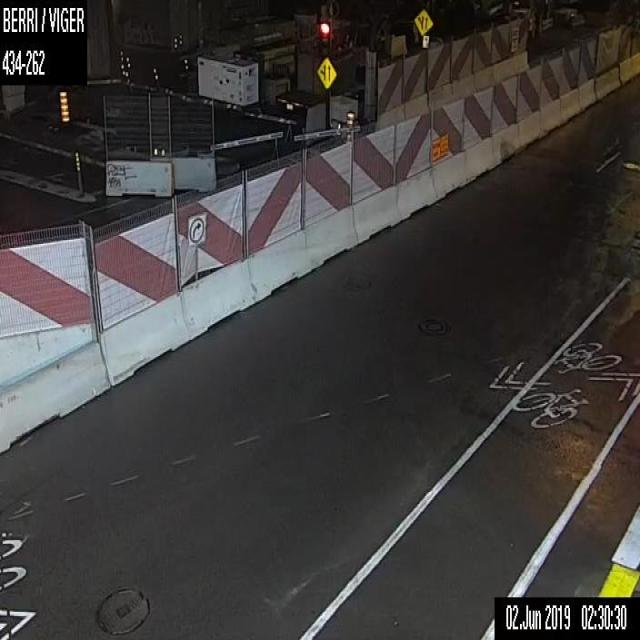construction: (0, 0, 639, 460), (58, 89, 67, 123), (345, 109, 355, 137)
